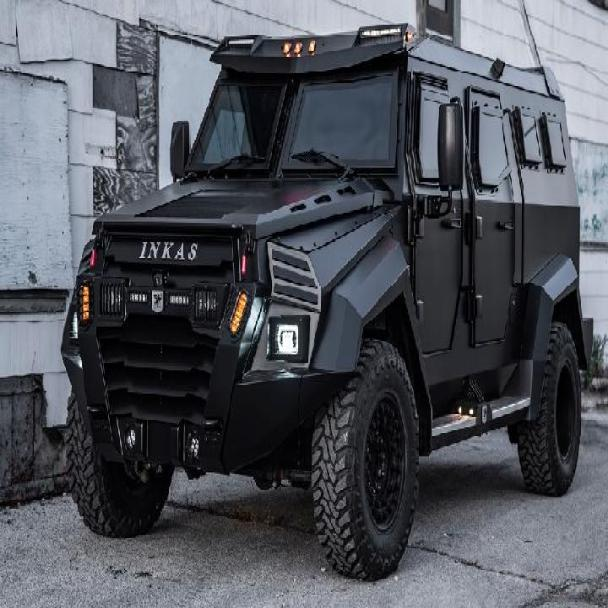Mobil: (47, 25, 596, 589)
